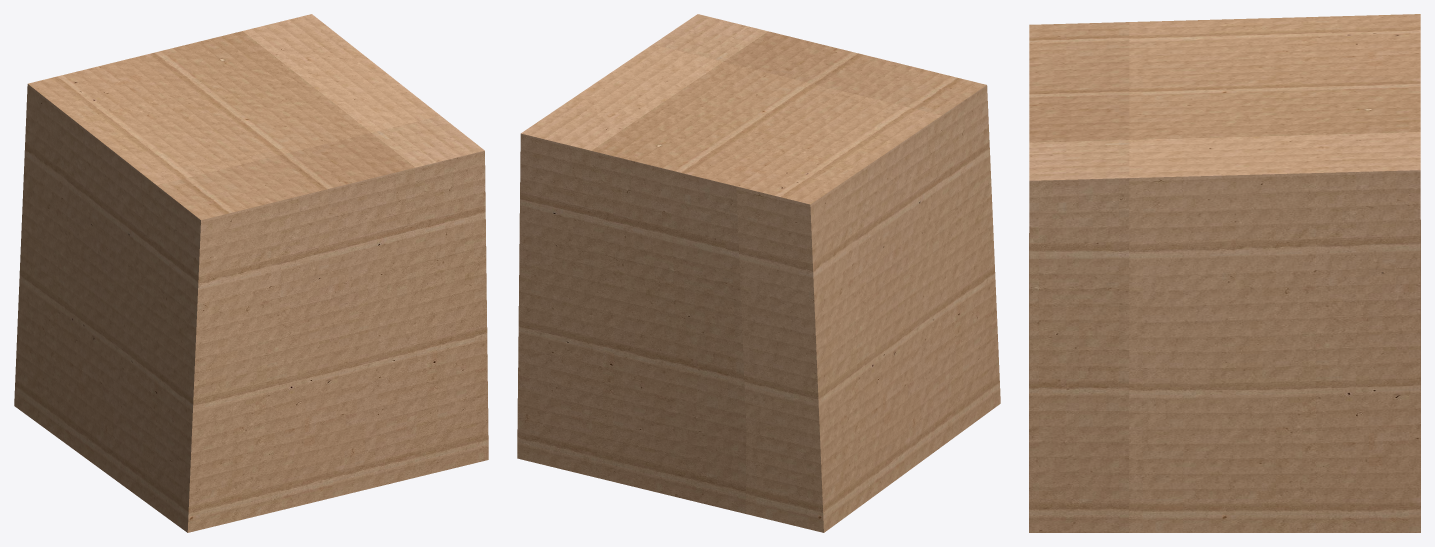
The model's file is ObstacleBox.glb.
3 renders of one model, left to right at view 1: azimuth 30°, elevation 25°; view 2: azimuth 150°, elevation 25°; view 3: azimuth 270°, elevation 25°, orthographic. The views are drawn at different scales.
Visible parts, largest first — view 1: Cube; view 2: Cube; view 3: Cube.
Part boxes in pixels (x1,y1,x2,y2): Cube: [14, 14, 488, 532]; Cube: [517, 14, 1000, 532]; Cube: [1029, 14, 1420, 532].
Size of the model in its own units: 2 by 2.03 by 2.
Materials: 1 (1 with a texture image).
